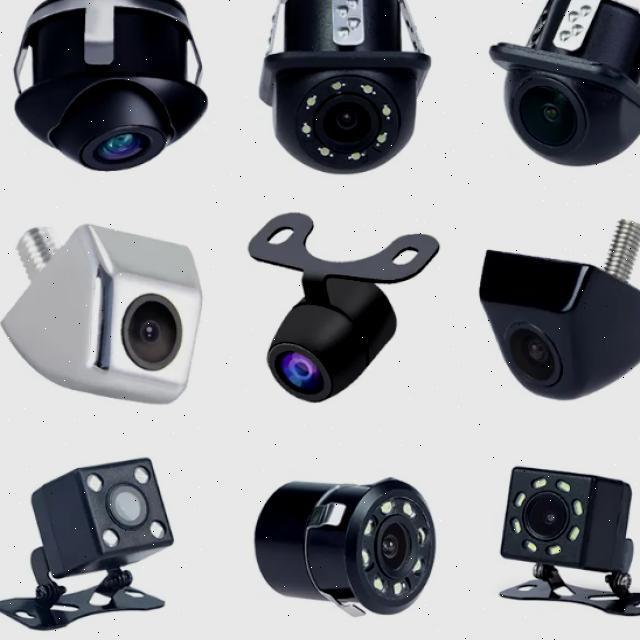camera: (17, 209, 239, 384), (241, 445, 458, 615), (230, 0, 434, 180), (13, 5, 210, 184), (25, 449, 195, 640), (487, 0, 638, 185), (249, 221, 383, 410), (475, 233, 611, 417), (487, 461, 622, 623)
